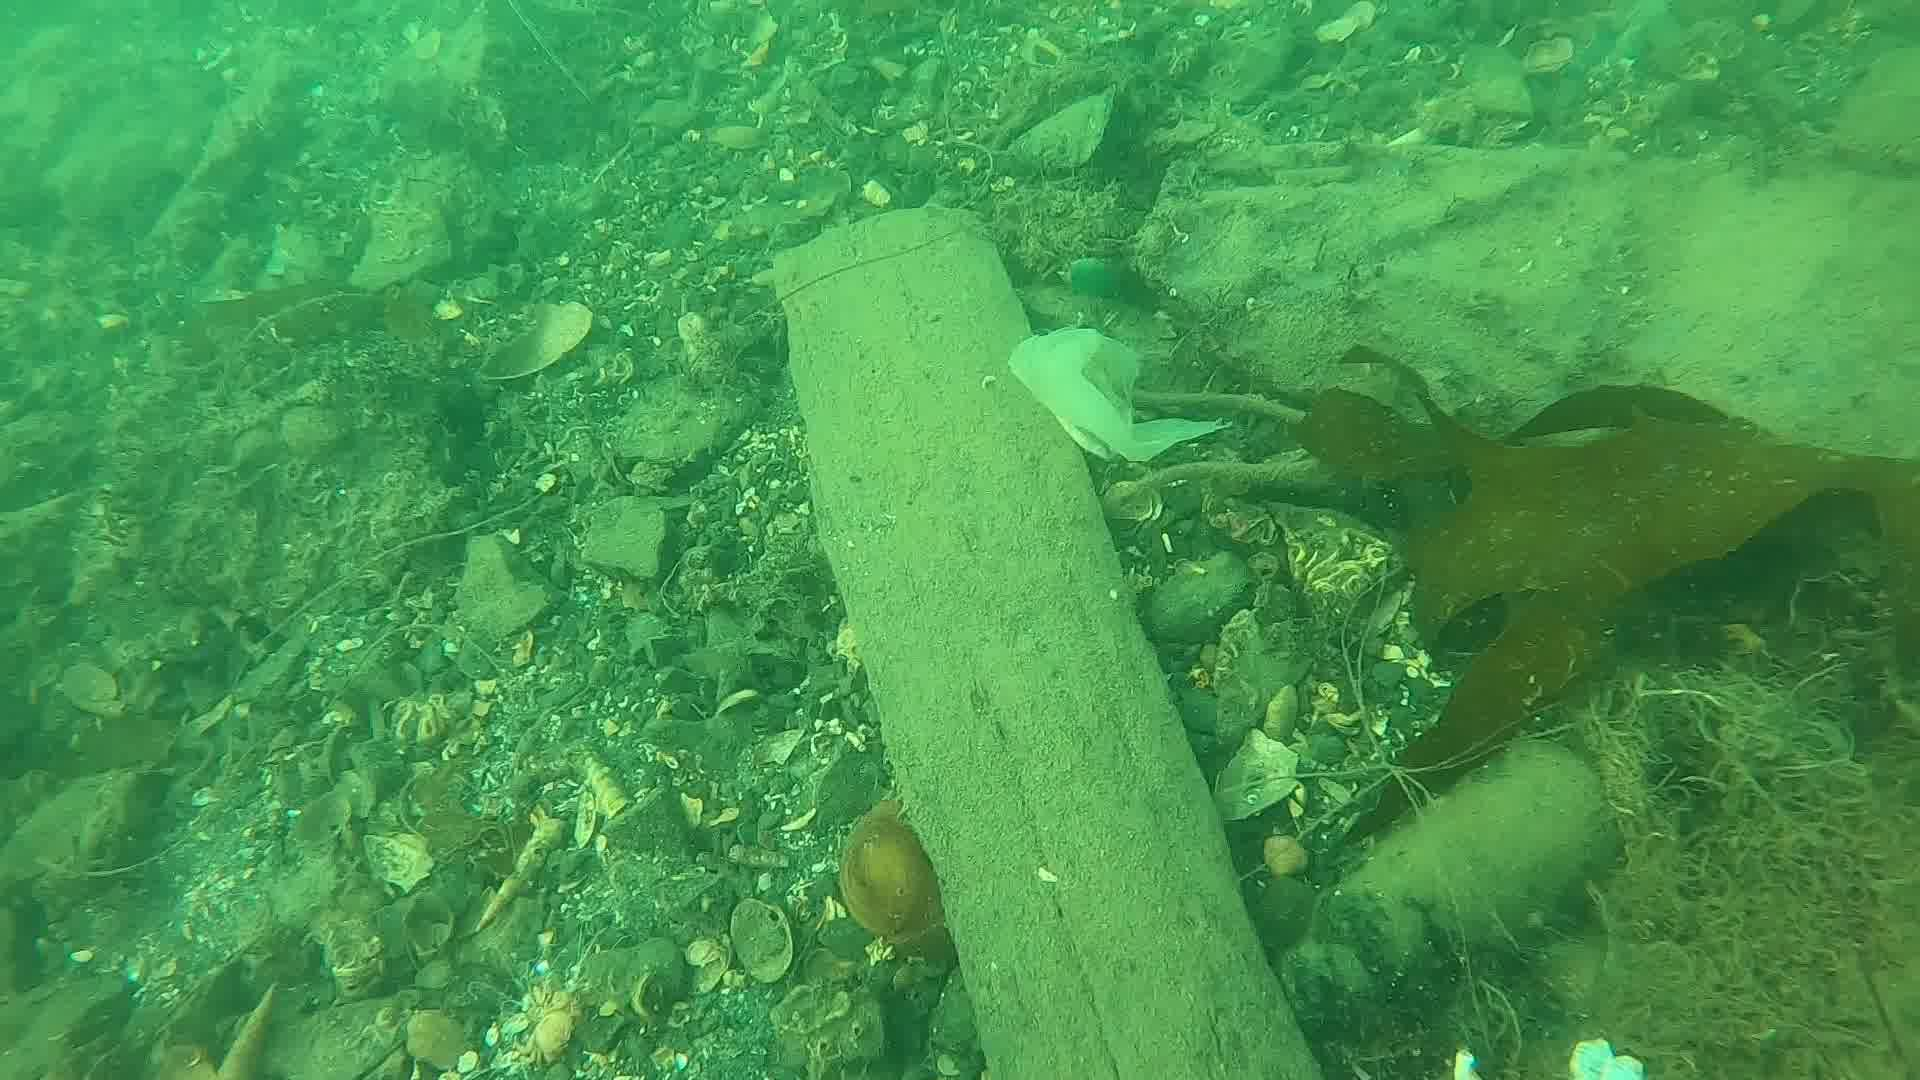wood: (767, 199, 1331, 1080)
